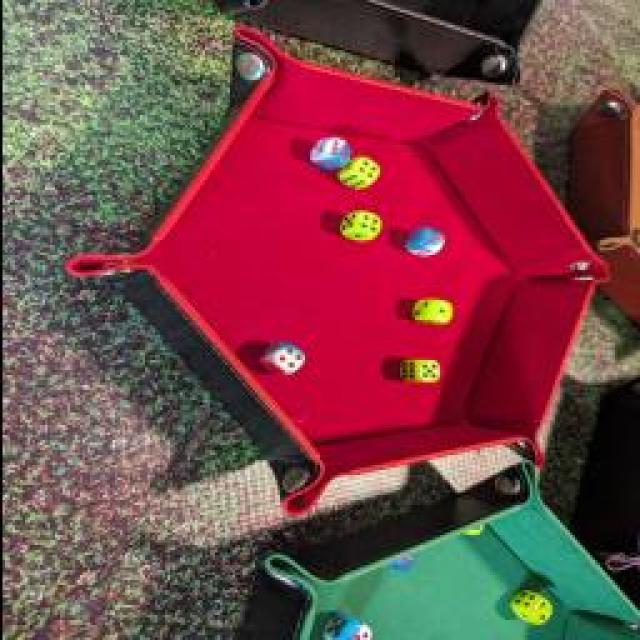dice_1: (404, 297, 454, 325)
dice_2: (503, 589, 555, 629)
dice_3: (398, 222, 448, 262), (318, 620, 378, 640)
dice_4: (332, 207, 382, 245), (259, 341, 309, 379), (334, 156, 384, 192)
dice_5: (395, 354, 443, 386), (380, 540, 420, 578)
dice_6: (308, 132, 354, 172)
